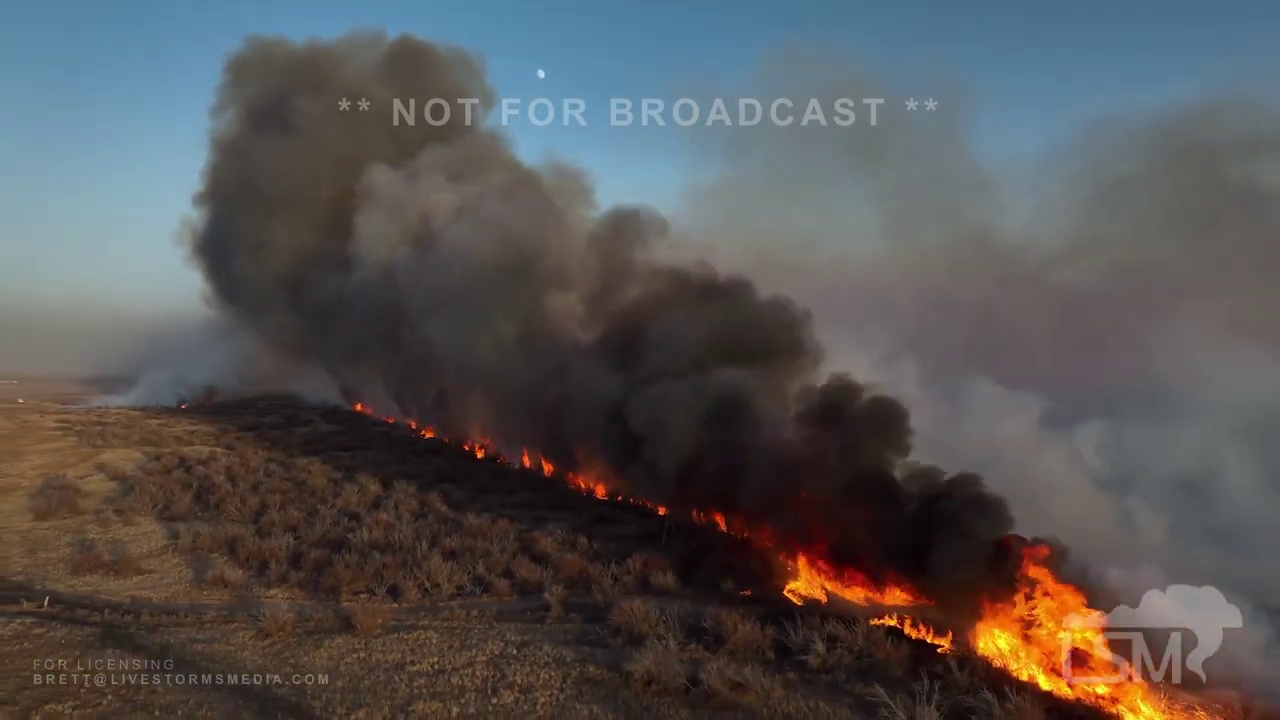forest_fire: (689, 509, 1210, 718), (353, 401, 670, 515)
